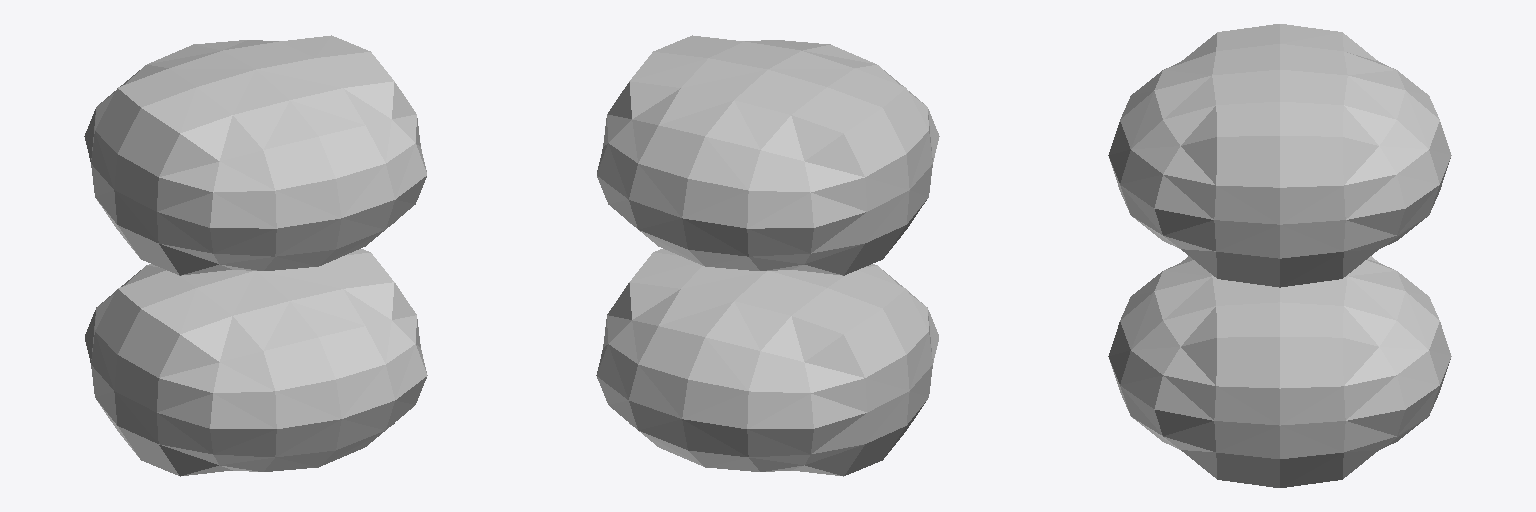
The model's file is DoubleLozenge.obj.
The picture shows the model from 3 angles: view 1: azimuth 30°, elevation 25°; view 2: azimuth 150°, elevation 25°; view 3: azimuth 270°, elevation 25°; orthographic projection.
Visible parts, largest first — view 1: DoubleLozenge_cube1; view 2: DoubleLozenge_cube1; view 3: DoubleLozenge_cube1.
Boxes of the visible parts, box(x1,y1,x2,y2) form: DoubleLozenge_cube1: box(84, 35, 427, 476); DoubleLozenge_cube1: box(596, 35, 939, 476); DoubleLozenge_cube1: box(1108, 24, 1451, 487).
Bounding box in the file's own units: 1.74 × 2.19 × 1.83.